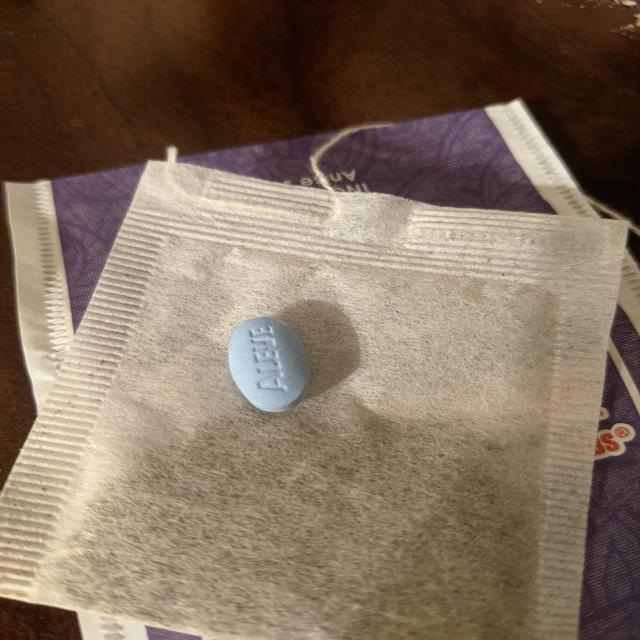non-organic waste: (227, 316, 313, 414)
